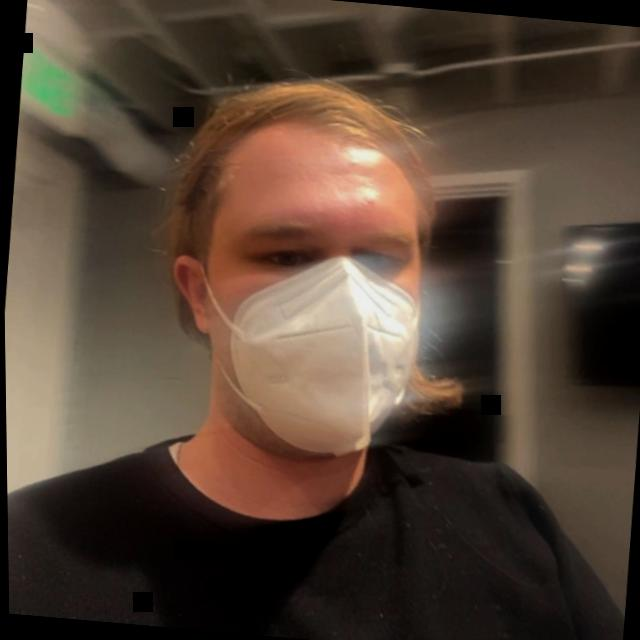Mask: (117, 32, 491, 523)
